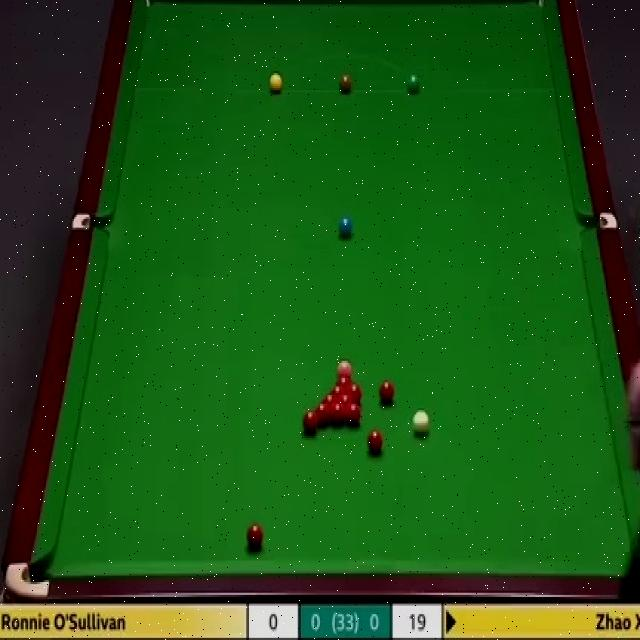blue-ball: (338, 216, 353, 240)
brown-ball: (338, 74, 352, 95)
green-ball: (406, 72, 420, 94)
pink-ball: (335, 357, 352, 373)
red-ball: (246, 524, 265, 550), (379, 379, 396, 406), (302, 412, 318, 437), (330, 403, 346, 427), (345, 402, 361, 426), (367, 430, 383, 453), (346, 383, 363, 404), (315, 404, 330, 427), (331, 384, 346, 397), (323, 394, 339, 406), (337, 376, 352, 388), (339, 395, 353, 406)
white-ball: (412, 409, 430, 436)
yellow-ball: (268, 71, 282, 93)
